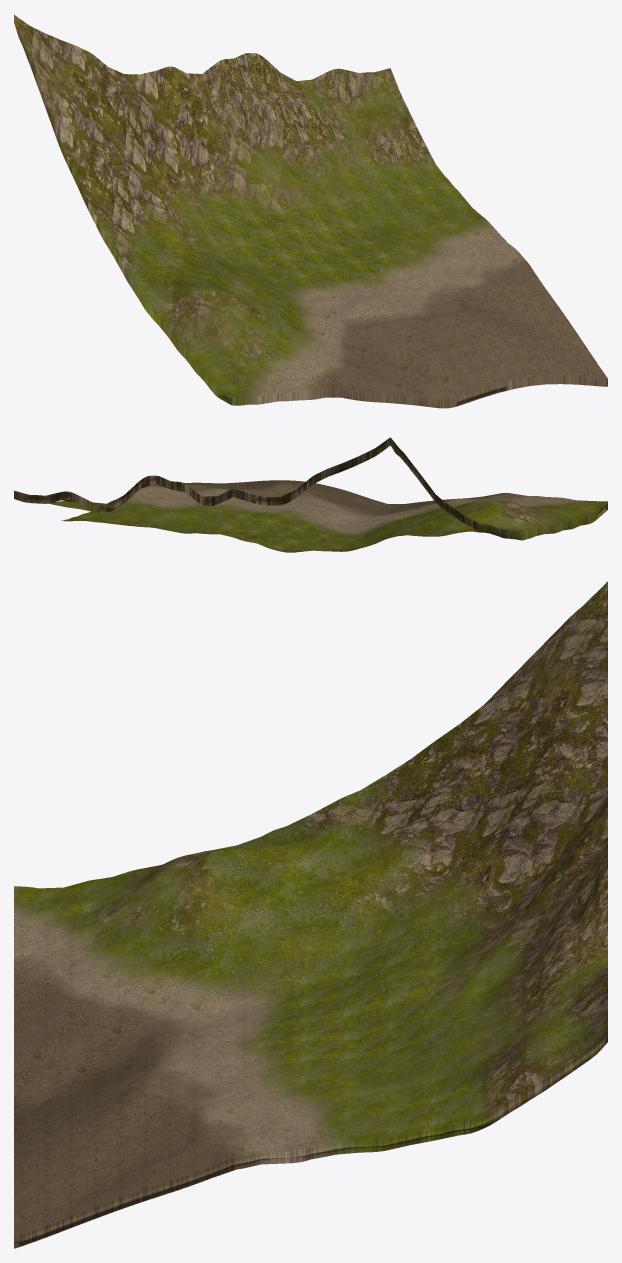
Rendered from chunk_3_4.glb.
3 views of the same model, one above another, from view 1: azimuth 30°, elevation 25°; view 2: azimuth 150°, elevation 25°; view 3: azimuth 270°, elevation 25° (orthographic). The views are drawn at different scales.
Parts seen in each view (by area): view 1: Terrain_L2, Terrain_L0, Terrain_L1; view 2: Terrain_L0, Terrain_L2, Terrain_L1; view 3: Terrain_L2, Terrain_L0, Terrain_L1.
Part boxes in pixels (x1,y1,x2,y2): Terrain_L2: (14, 15, 607, 407); Terrain_L0: (14, 16, 607, 408); Terrain_L1: (14, 15, 607, 408); Terrain_L0: (14, 437, 607, 552); Terrain_L2: (14, 438, 607, 552); Terrain_L1: (14, 438, 607, 552); Terrain_L2: (14, 581, 607, 1247); Terrain_L0: (14, 584, 607, 1248); Terrain_L1: (14, 604, 607, 1247).
Size of the model in its own units: 96 by 74.31 by 96.
1 material, 1 textured.
